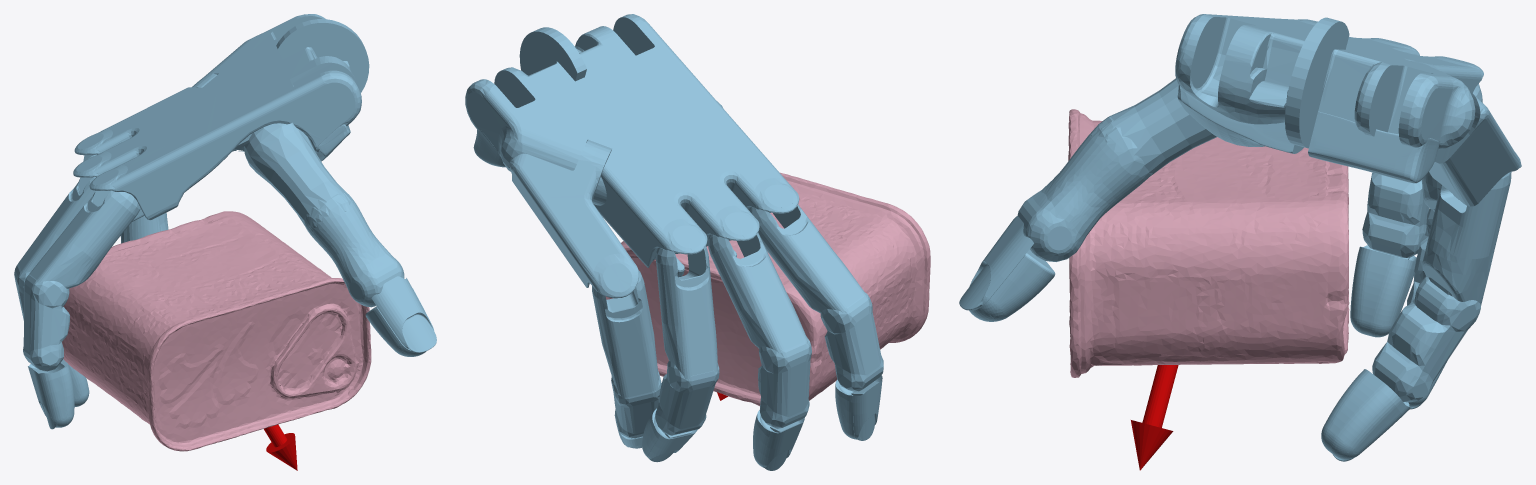
3 views of the same model, side by side, from view 1: azimuth 30°, elevation 25°; view 2: azimuth 150°, elevation 25°; view 3: azimuth 270°, elevation 25° (orthographic). The views are drawn at different scales.
Parts seen in each view (by area): view 1: world, potted_meat_can.stl; view 2: world, potted_meat_can.stl; view 3: world, potted_meat_can.stl.
Boxes of the visible parts, x1=… form: world: x1=14, y1=14, x2=436, y2=470; potted_meat_can.stl: x1=62, y1=211, x2=371, y2=451; world: x1=465, y1=14, x2=883, y2=470; potted_meat_can.stl: x1=605, y1=172, x2=930, y2=406; world: x1=959, y1=14, x2=1521, y2=470; potted_meat_can.stl: x1=1068, y1=109, x2=1349, y2=377.
Bounding box in the file's own units: 0.1603 × 0.1658 × 0.1671.
